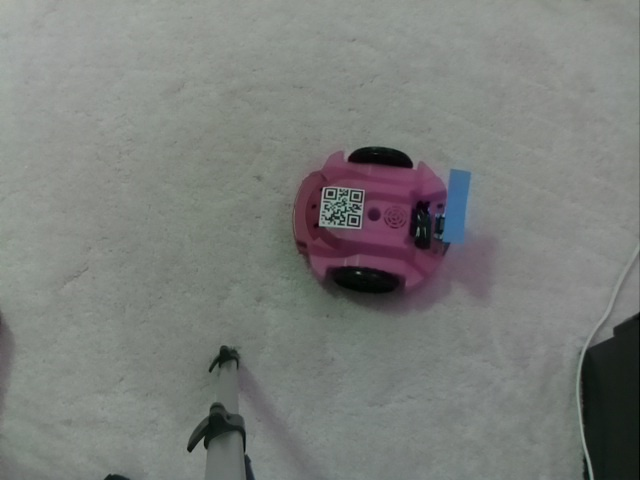chassis: (295, 144, 471, 303)
qr: (307, 176, 379, 240)
